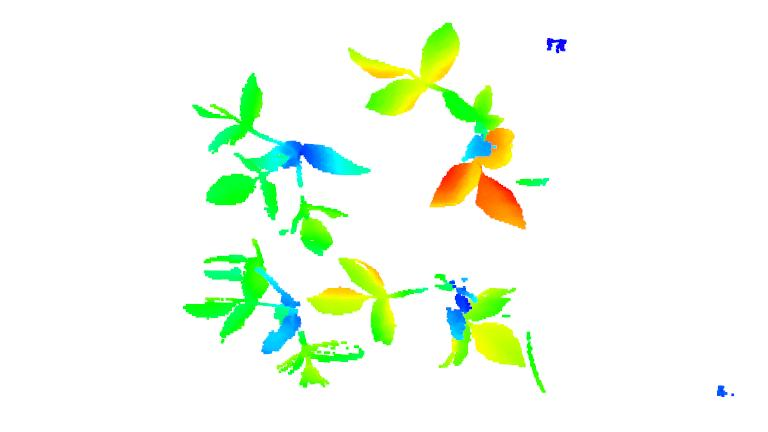mungbean: (345, 18, 534, 235), (186, 67, 372, 257), (181, 240, 367, 388), (304, 254, 536, 372)
